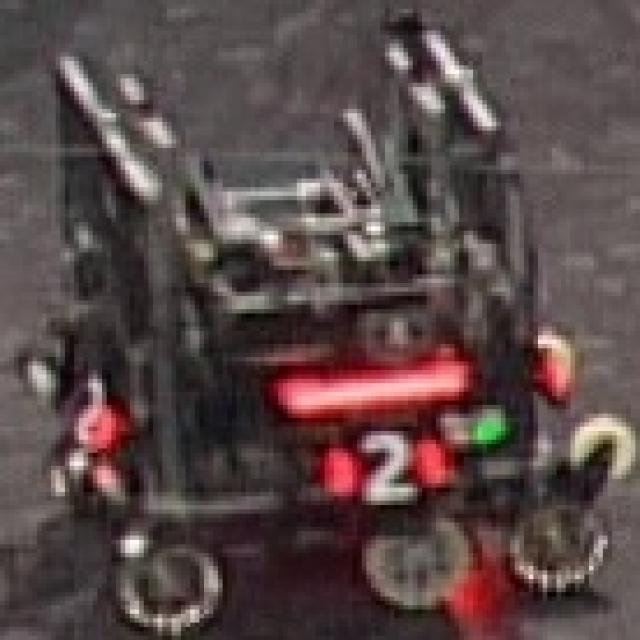R2: (320, 427, 454, 509), (65, 366, 125, 448)
